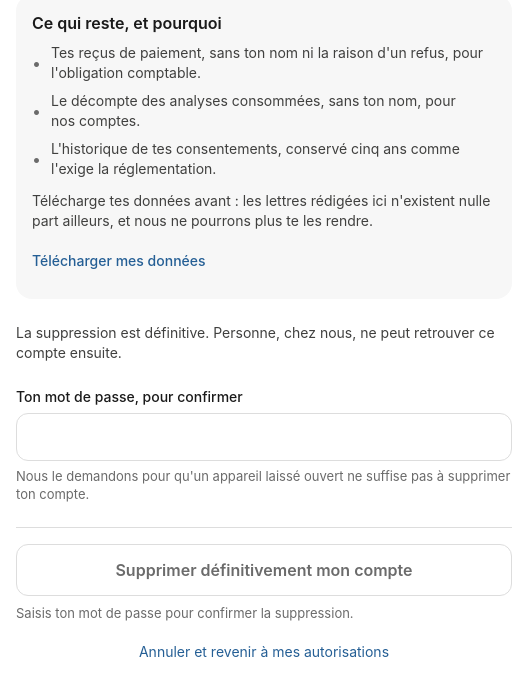
Suppression de compte › ne dit pas les pièces supprimées quand la purge n'a pas abouti (R-O05, S.183)
The image size is (529, 674).
(page scrolled)
Type "demonstration-2026" into the password field labelled "Ton mot de passe, pour confirmer" at {"x": 264, "y": 437}, box [16,413,512,461]
(page scrolled)
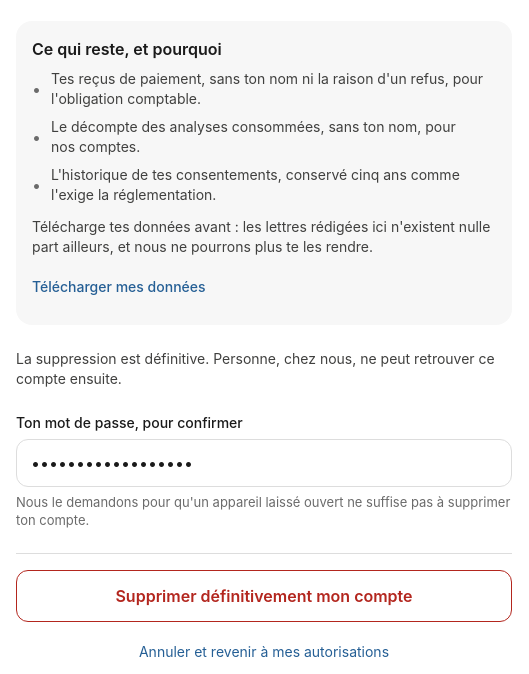
Click the button "Supprimer définitivement mon compte" at {"x": 264, "y": 596}, box [16,570,512,622]
(page scrolled)
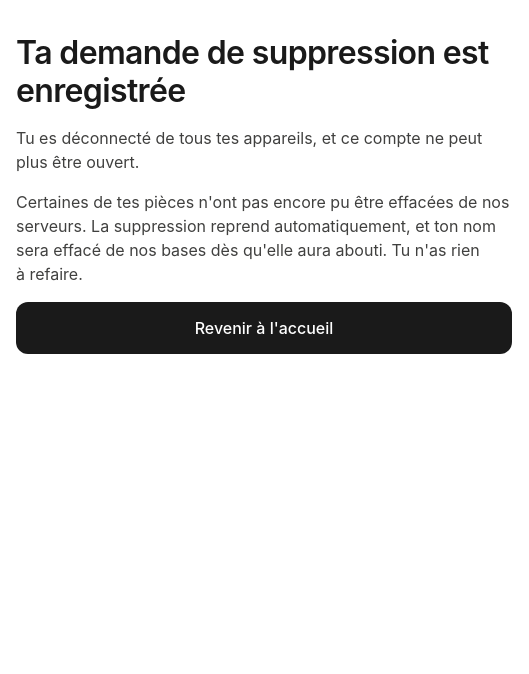
Check: the heading "Ta demande de suppression est enregistrée" is shown, box [16,34,512,110]
Check: the text "Tu es déconnecté de tous tes appareils" is shown, box [16,128,482,172]
Check: the text "pas encore pu être effacées" is shown, box [16,192,509,284]
